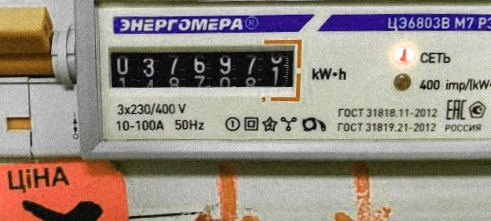0: (113, 53, 129, 74)
1: (269, 64, 281, 85)
3: (140, 55, 154, 78)
6: (192, 52, 205, 73)
7: (166, 51, 179, 75), (243, 52, 256, 75)
9: (217, 52, 230, 74)
screen: (101, 36, 305, 108)
